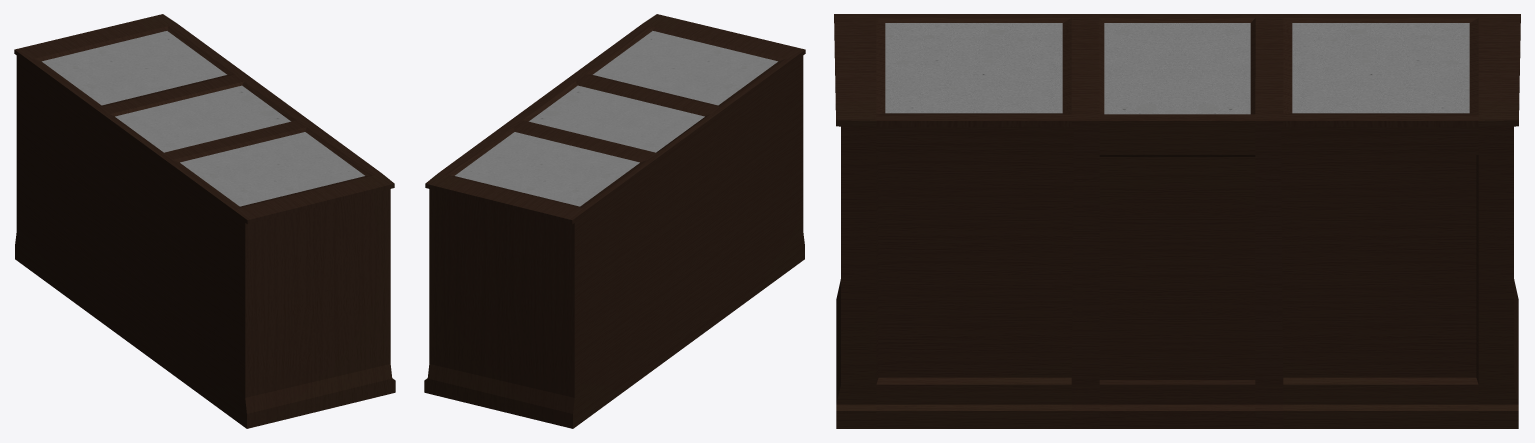
File: DisplayCaseBase.fbx
3 views of the same model, side by side, from view 1: azimuth 30°, elevation 25°; view 2: azimuth 150°, elevation 25°; view 3: azimuth 270°, elevation 25° (orthographic). The views are drawn at different scales.
Parts seen in each view (by area): view 1: Cube; view 2: Cube; view 3: Cube.
Part boxes in pixels (x1=…): Cube: x1=14, y1=14, x2=395, y2=428; Cube: x1=424, y1=14, x2=805, y2=428; Cube: x1=834, y1=14, x2=1520, y2=428.
Bounding box in the file's own units: 532 × 714 × 1443.
